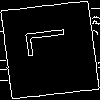L: (24, 24, 77, 58)
